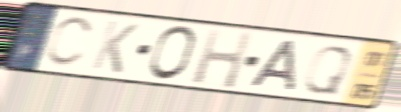A: (246, 38, 299, 94)
C: (42, 15, 97, 70)
H: (189, 27, 255, 92)
K: (89, 18, 142, 76)
O: (146, 24, 199, 84)
Q: (300, 43, 356, 97)
